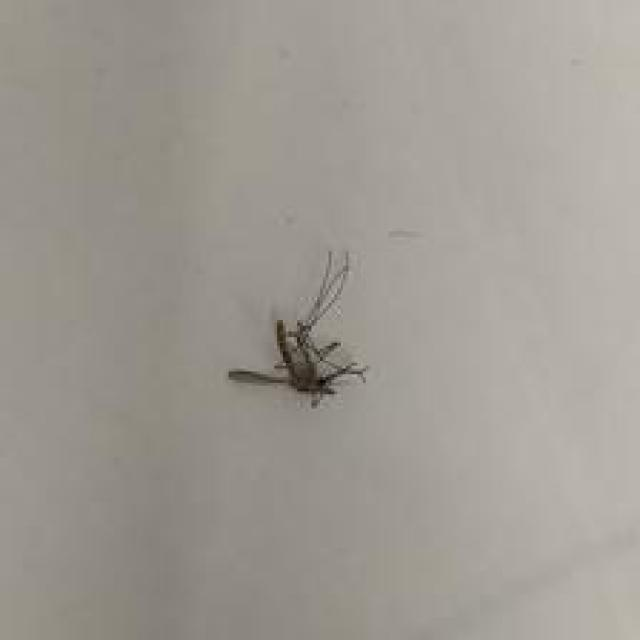Culex: (227, 248, 370, 408)
